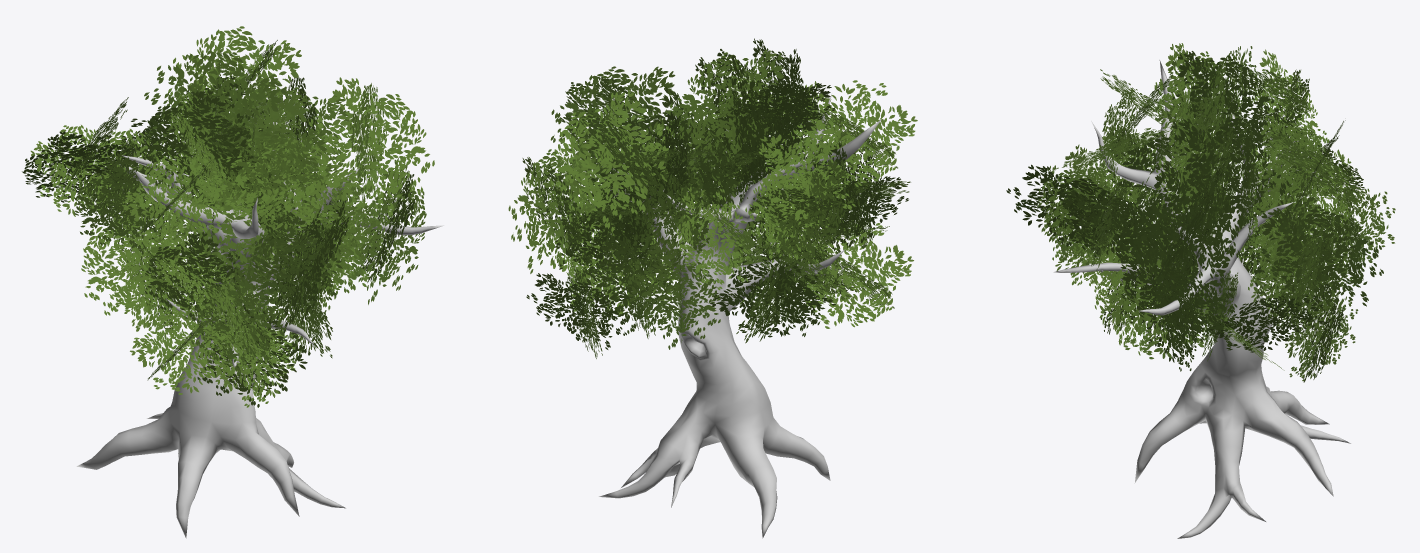
File: Tree.fbx
3 views of the same model, side by side, from view 1: azimuth 30°, elevation 25°; view 2: azimuth 150°, elevation 25°; view 3: azimuth 270°, elevation 25° (orthographic). The views are drawn at different scales.
Visible parts, largest first — view 1: Tree_leaf, Tree; view 2: Tree_leaf, Tree; view 3: Tree_leaf, Tree.
Boxes of the visible parts, x1,y1,x2,y2 form: Tree_leaf: (22,26,434,407); Tree: (76,122,443,538); Tree_leaf: (508,38,917,358); Tree: (599,94,881,538); Tree_leaf: (1006,43,1395,382); Tree: (1053,60,1350,538).
Size of the model in its own units: 17.68 by 21.29 by 18.15.
